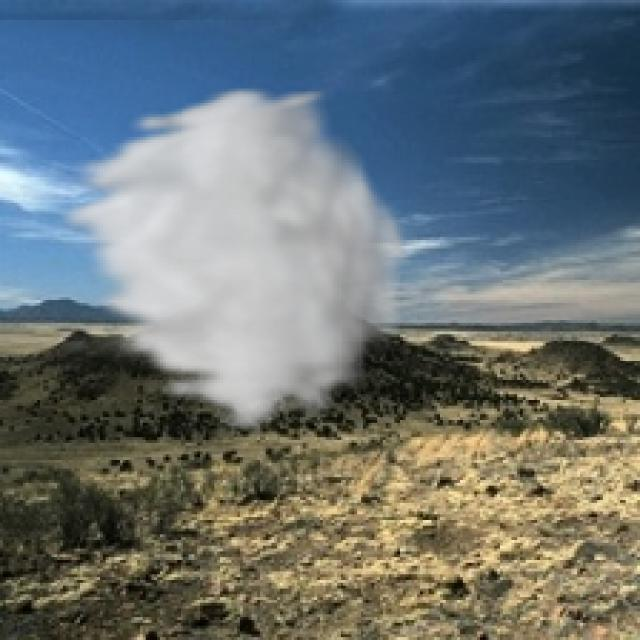Smoke: (46, 82, 414, 438)
